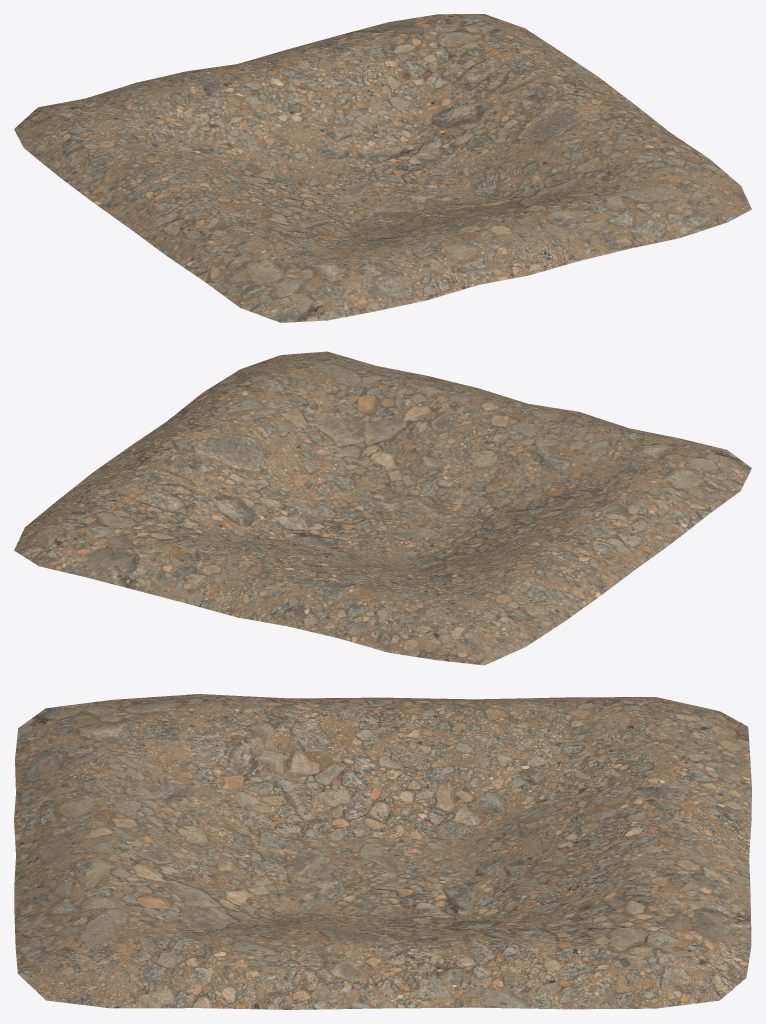
Rendered from ground.obj.
The picture shows the model from 3 angles, top to bottom: view 1: azimuth 30°, elevation 25°; view 2: azimuth 150°, elevation 25°; view 3: azimuth 270°, elevation 25°; orthographic projection. The views are drawn at different scales.
Parts seen in each view (by area): view 1: Plane; view 2: Plane; view 3: Plane.
Part boxes in pixels (x1,y1,x2,y2): Plane: (14, 14, 751, 322); Plane: (14, 351, 751, 665); Plane: (14, 694, 751, 1009).
Bounding box in the file's own units: 246 × 19.06 × 246.
